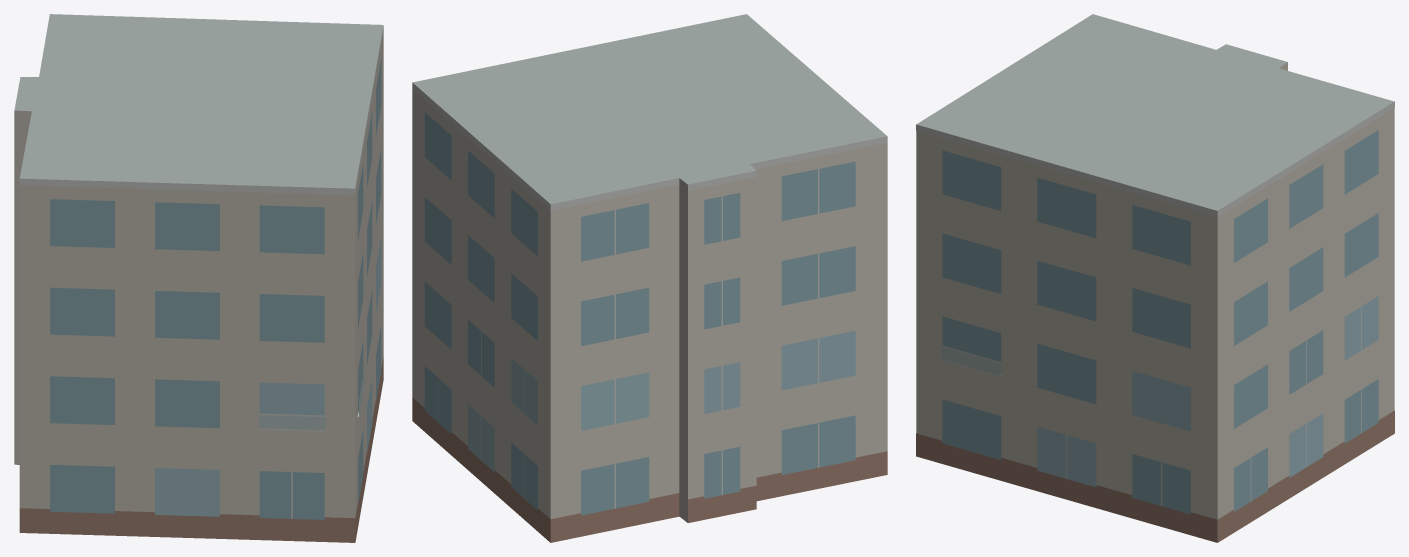
File: survey-upis-32738377.glb
The picture shows the model from 3 angles, left to right: view 1: azimuth 30°, elevation 25°; view 2: azimuth 150°, elevation 25°; view 3: azimuth 270°, elevation 25°; orthographic projection. The views are drawn at different scales.
Visible parts, largest first — view 1: survey-upis-32738377.tmp; view 2: survey-upis-32738377.tmp; view 3: survey-upis-32738377.tmp.
Part boxes in pixels (<box>): survey-upis-32738377.tmp: <box>14,14,383,542</box>; survey-upis-32738377.tmp: <box>412,14,887,542</box>; survey-upis-32738377.tmp: <box>916,14,1394,542</box>.
Size of the model in its own units: 16.42 by 12.9 by 16.86.
